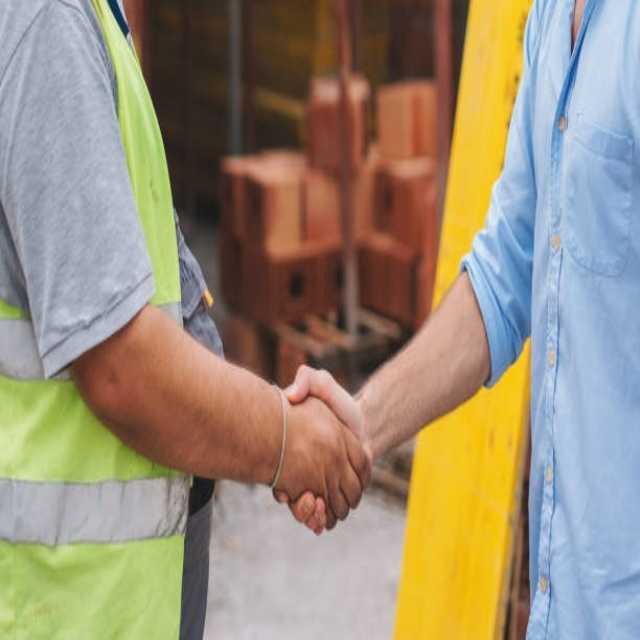Sin_guantes: (267, 364, 373, 534)
